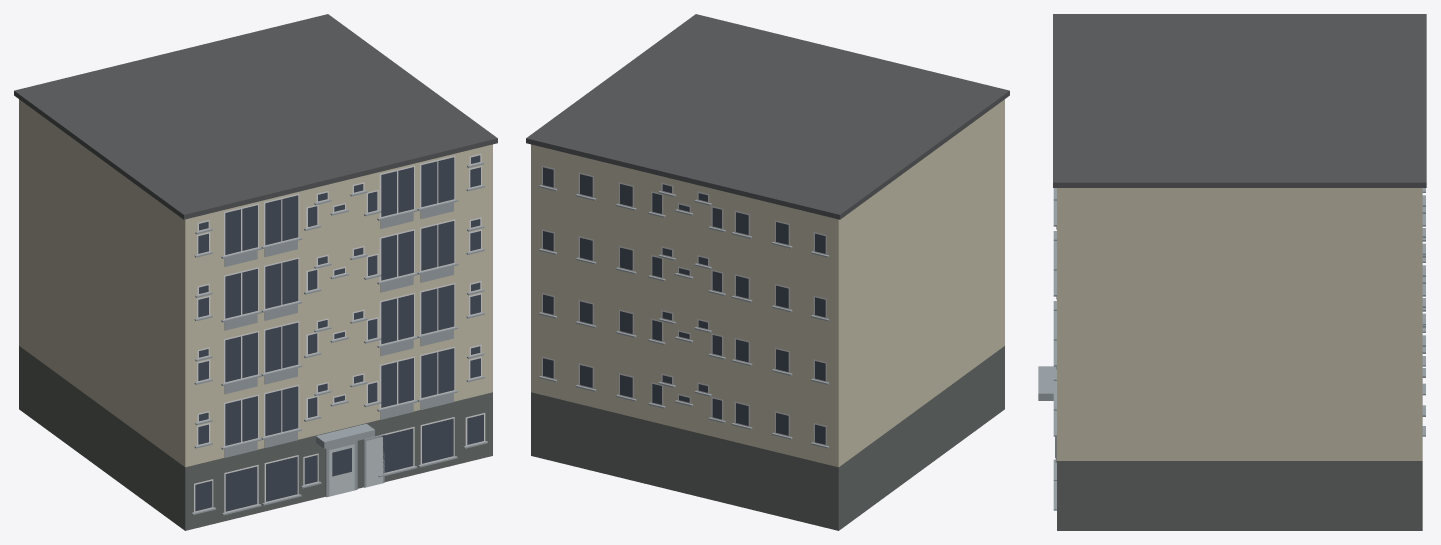
The model's file is nw-loggia-stack-flat-5st__white__5__flat__long__solid.glb.
3 renders of one model, left to right at view 1: azimuth 30°, elevation 25°; view 2: azimuth 150°, elevation 25°; view 3: azimuth 270°, elevation 25°, orthographic. The views are drawn at different scales.
Visible parts, largest first — view 1: nw-loggia-stack-flat-5st__white__5__flat__long__solid; view 2: nw-loggia-stack-flat-5st__white__5__flat__long__solid; view 3: nw-loggia-stack-flat-5st__white__5__flat__long__solid.
Boxes of the visible parts, x1,y1,x2,y2 form: nw-loggia-stack-flat-5st__white__5__flat__long__solid: [14, 14, 497, 530]; nw-loggia-stack-flat-5st__white__5__flat__long__solid: [526, 14, 1009, 530]; nw-loggia-stack-flat-5st__white__5__flat__long__solid: [1038, 14, 1426, 530].
Bounding box in the file's own units: 14.85 × 14.38 × 14.46.
